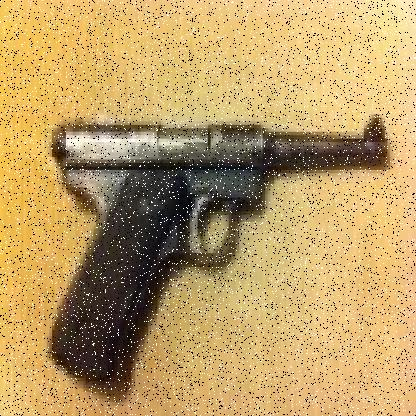pistol: (42, 114, 401, 388)
